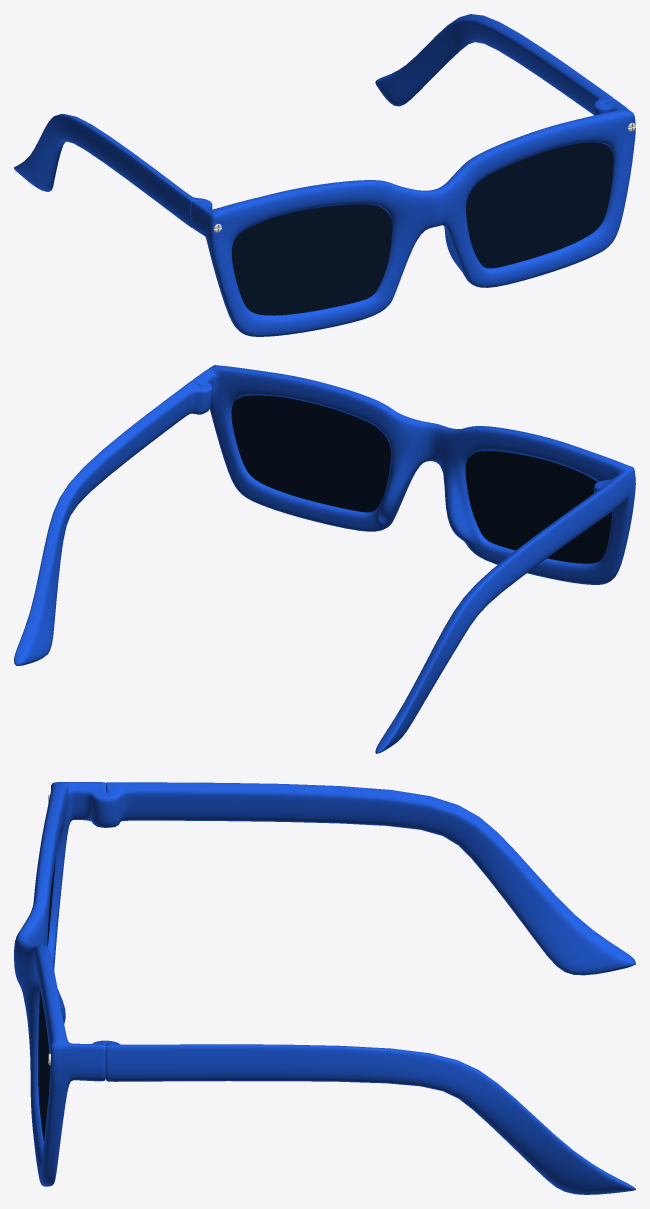
Rendered from Sunglasses_1.fbx.
3 renders of one model, top to bottom at view 1: azimuth 30°, elevation 25°; view 2: azimuth 150°, elevation 25°; view 3: azimuth 270°, elevation 25°, orthographic. The views are drawn at different scales.
Parts seen in each view (by area): view 1: Cube.011, Cube.013; view 2: Cube.011, Cube.013; view 3: Cube.011, Cube.013.
Boxes of the visible parts, box(x1,y1,x2,y2) form: Cube.011: box(14, 14, 635, 336); Cube.013: box(232, 142, 613, 315); Cube.011: box(14, 365, 635, 753); Cube.013: box(231, 395, 612, 563); Cube.011: box(14, 782, 635, 1194); Cube.013: box(38, 859, 55, 1141).
Size of the model in its own units: 108 by 34.09 by 106.
